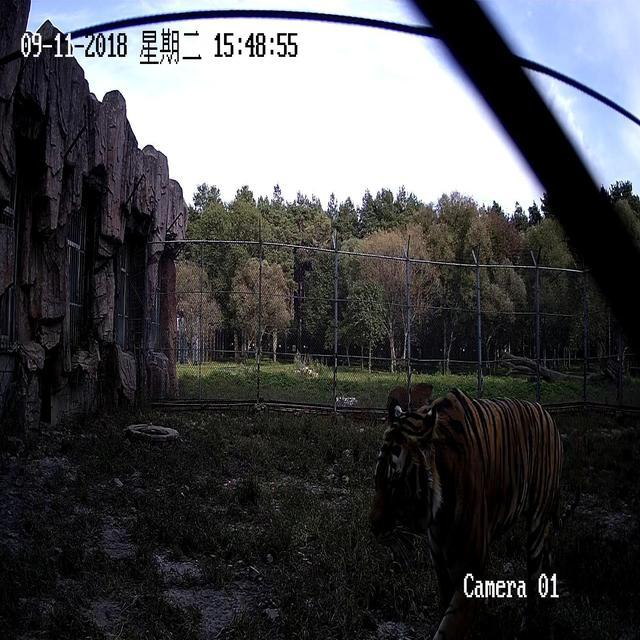tiger: (368, 384, 564, 638)
